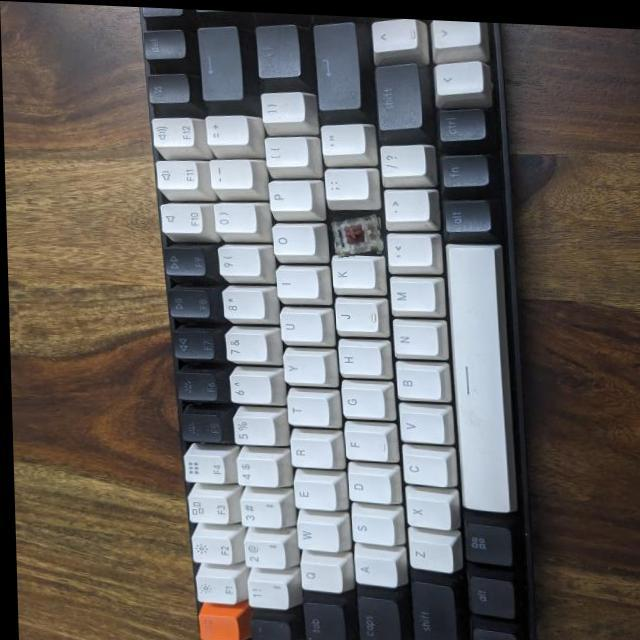key-switch: (331, 206, 383, 254)
